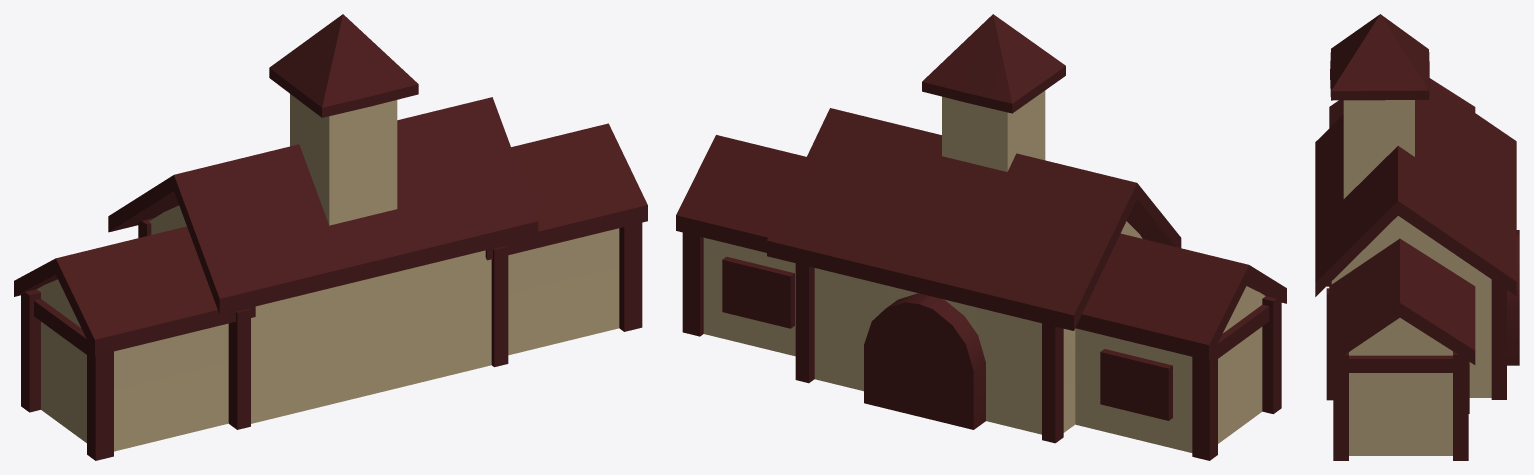
Rendered from SM_Building-TownHall (5).fbx.
3 renders of one model, left to right at view 1: azimuth 30°, elevation 25°; view 2: azimuth 150°, elevation 25°; view 3: azimuth 270°, elevation 25°, orthographic. The views are drawn at different scales.
Visible parts, largest first — view 1: SM_Building-TownHall; view 2: SM_Building-TownHall; view 3: SM_Building-TownHall.
Part boxes in pixels (left/top/right/bottom): SM_Building-TownHall: left=14, top=14, right=647, bottom=460; SM_Building-TownHall: left=676, top=14, right=1286, bottom=460; SM_Building-TownHall: left=1315, top=14, right=1519, bottom=460.
Size of the model in its own units: 729 by 455 by 258.
